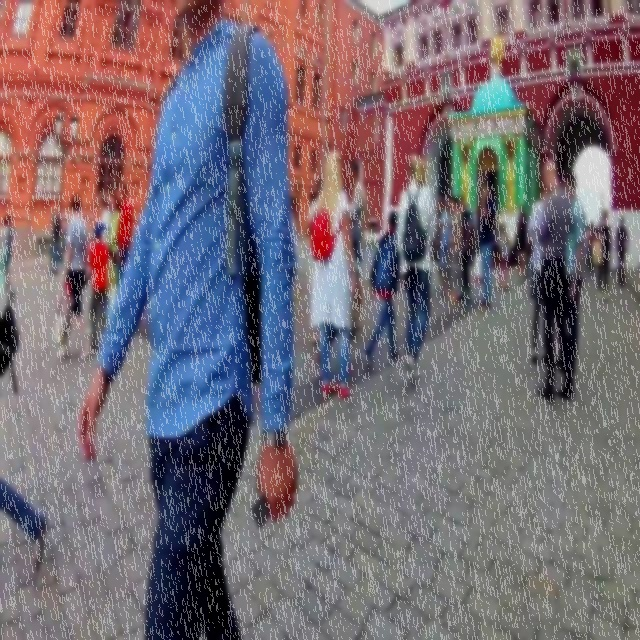pessoa: (77, 0, 301, 639), (0, 286, 51, 585), (307, 147, 358, 400), (536, 154, 576, 404), (395, 152, 437, 388), (361, 207, 404, 366), (54, 191, 93, 360), (556, 166, 586, 380), (527, 181, 551, 367), (82, 218, 111, 356), (348, 158, 368, 332), (304, 175, 324, 345), (434, 196, 462, 304), (474, 178, 496, 312), (454, 194, 473, 304), (115, 180, 133, 286), (434, 195, 452, 298), (594, 207, 612, 301), (433, 194, 449, 292), (442, 200, 458, 298), (492, 220, 510, 292), (107, 190, 123, 268), (514, 202, 528, 286), (614, 214, 628, 288), (289, 204, 299, 302), (48, 207, 62, 276), (96, 192, 112, 252), (524, 215, 536, 279), (0, 216, 8, 290), (587, 220, 597, 276), (464, 202, 476, 245), (505, 159, 515, 208), (6, 212, 14, 268), (494, 214, 502, 265), (462, 159, 470, 203), (568, 50, 580, 78), (584, 220, 590, 272), (440, 74, 452, 98), (511, 232, 517, 251), (86, 325, 92, 337)
